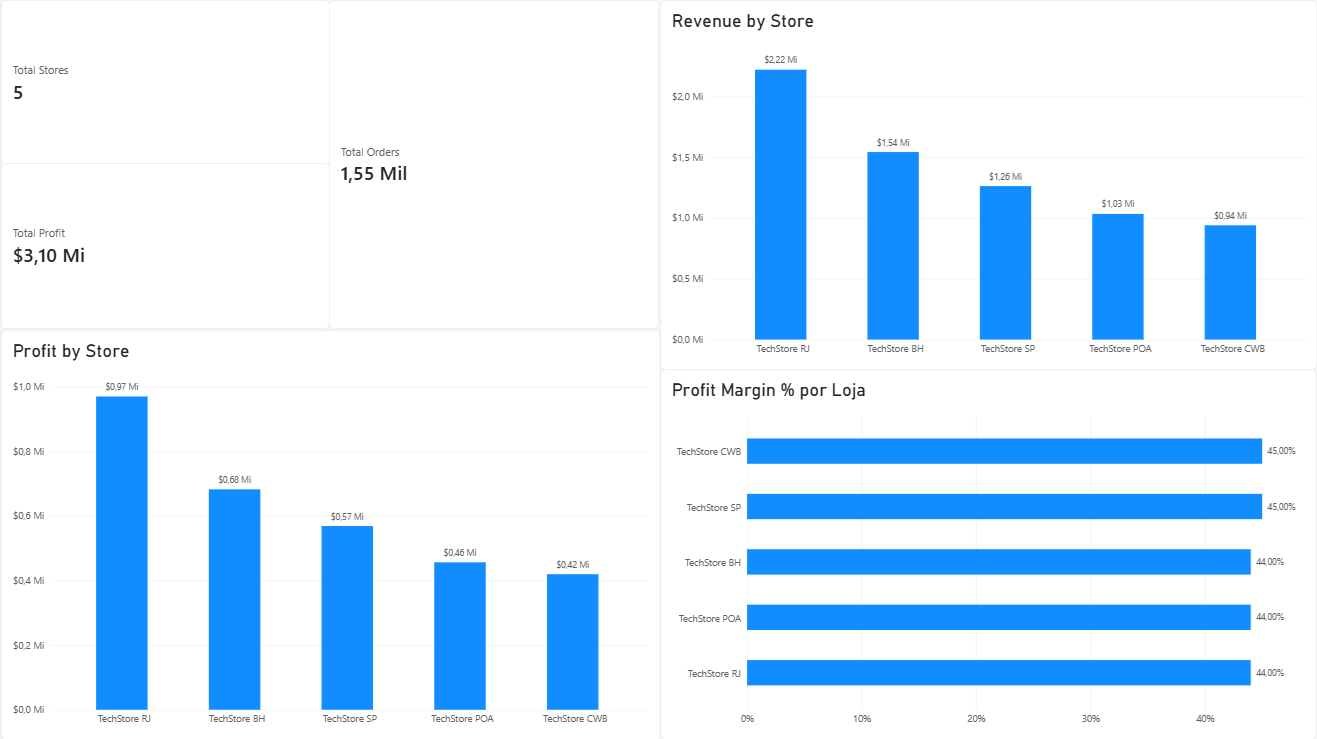

What the dashboard file says about the page in this screenshot:
{"tool":"powerbi","page":{"name":"Store Performance Analysis","canvas":[1920,1080],"ordinal":5},"visuals":[{"type":"barChart","fields":{"Category":["8 Store Profitability.Loja"],"Y":["8 Store Profitability.Profit Margin %"]},"box":[961.5,538.4,958.5,541.4],"z":0},{"type":"columnChart","title":"Revenue by Store","fields":{"Category":["8 Store Profitability.Loja"],"Y":["Sum(8 Store Profitability.Faturamento_Total)"]},"box":[960.8,0,959.2,540.4],"z":1000},{"type":"clusteredColumnChart","title":"Profit by Store","fields":{"Category":["8 Store Profitability.Loja"],"Y":["Sum(8 Store Profitability.Lucro_Total)"]},"box":[0,480.8,961.5,599.1],"z":2000},{"type":"cardVisual","fields":{"Data":["CountNonNull(6 Store Sales Performance.Loja)"]},"box":[0,0,480.8,242.7],"z":3000},{"type":"cardVisual","fields":{"Data":["Sum(6 Store Sales Performance.Lucro_Total)"]},"box":[0,238.1,480.8,242.7],"z":5000},{"type":"cardVisual","fields":{"Data":["Sum(6 Store Sales Performance.Quantidade_Pedidos)"]},"box":[478.9,0,481.9,480.4],"z":6000}]}

Visuals, with their boxes in screenshot pixels (x1, y1, x2, y2), scaled from the page's 1920x1080 canvas onto the 1317x739 screenshot:
barChart - 8 Store Profitability.Loja x 8 Store Profitability.Profit Margin %: box(660, 368, 1316, 738)
"Revenue by Store" columnChart: box(659, 0, 1316, 370)
"Profit by Store" clusteredColumnChart: box(0, 329, 660, 738)
cardVisual - CountNonNull(6 Store Sales Performance.Loja): box(0, 0, 330, 166)
cardVisual - Sum(6 Store Sales Performance.Lucro_Total): box(0, 163, 330, 329)
cardVisual - Sum(6 Store Sales Performance.Quantidade_Pedidos): box(328, 0, 659, 329)
